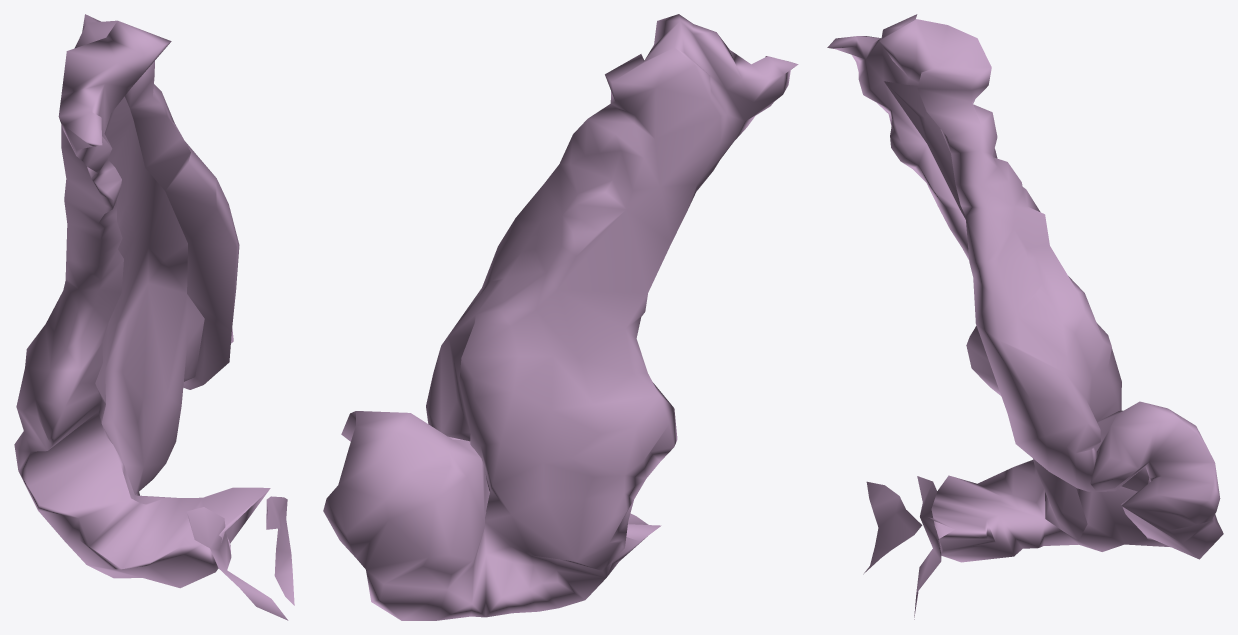
3 views of the same model, side by side, from view 1: azimuth 30°, elevation 25°; view 2: azimuth 150°, elevation 25°; view 3: azimuth 270°, elevation 25° (orthographic). The views are drawn at different scales.
Visible parts, largest first — view 1: 左侧枕颞内侧回（海马旁回）; view 2: 左侧枕颞内侧回（海马旁回）; view 3: 左侧枕颞内侧回（海马旁回）.
Boxes of the visible parts, <box> form: 左侧枕颞内侧回（海马旁回）: <box>14,14,294,620</box>; 左侧枕颞内侧回（海马旁回）: <box>323,14,798,620</box>; 左侧枕颞内侧回（海马旁回）: <box>827,14,1223,619</box>.
Bounding box in the file's own units: 0.0465 × 0.0866 × 0.0584.
